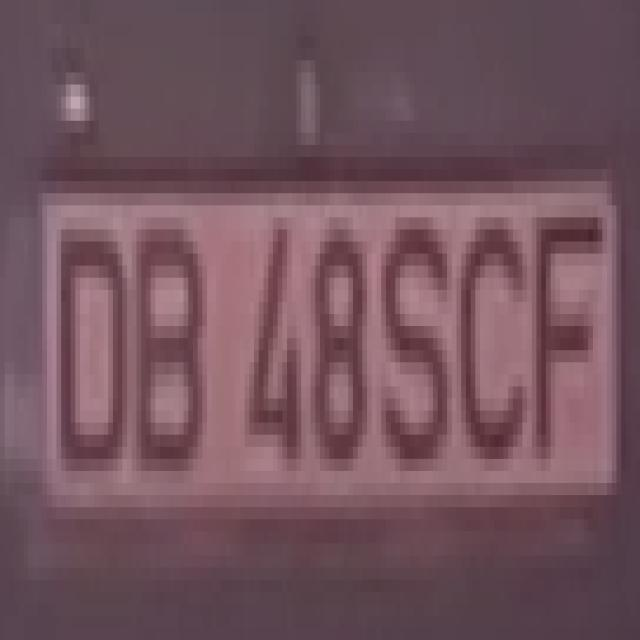Autre: (40, 165, 617, 512)
